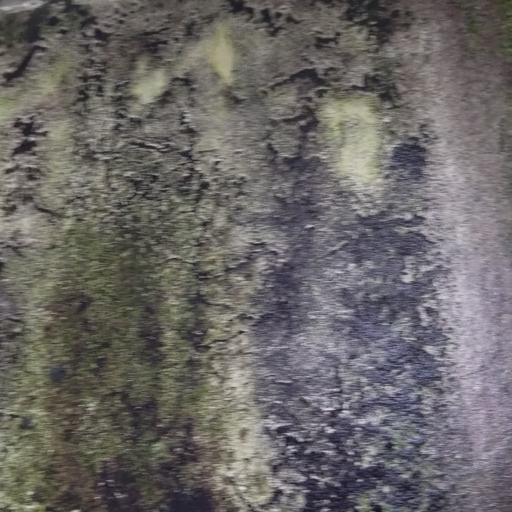algae: (4, 5, 509, 512)
